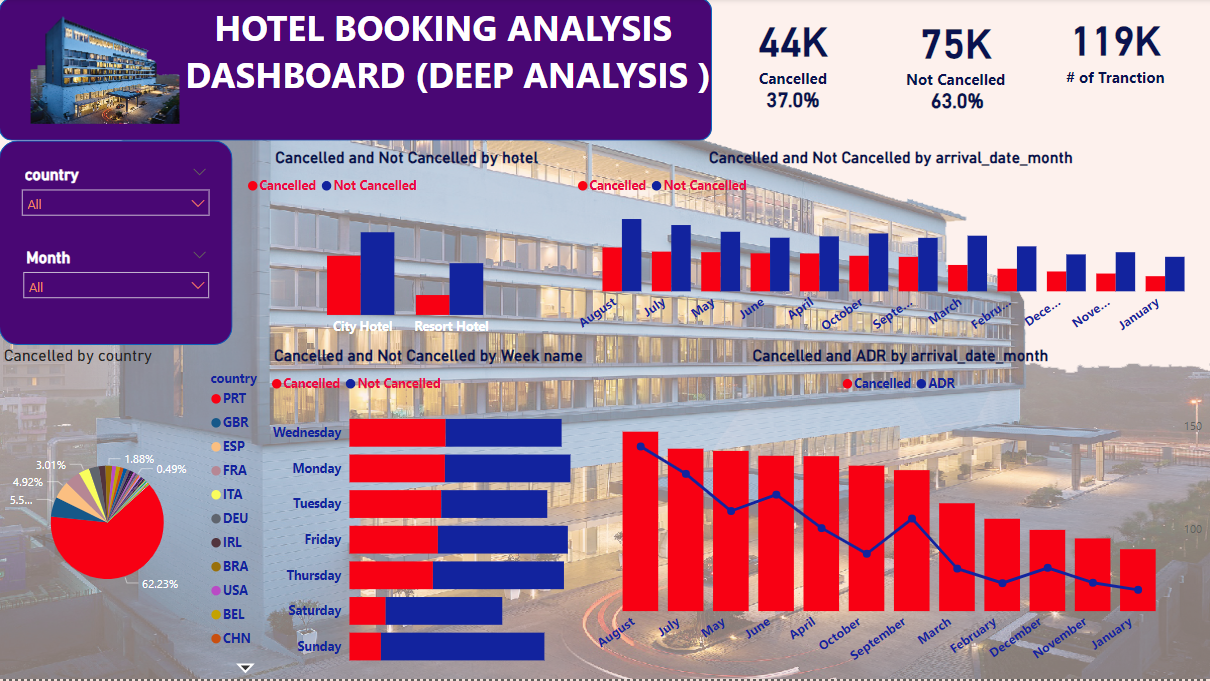

The dashboard page shown, as its layout file describes it:
{"tool":"powerbi","page":{"name":"Page 1","canvas":[1280,720],"ordinal":0},"visuals":[{"type":"shape","box":[0,0,657.5,135.1],"z":0},{"type":"textbox","box":[126.7,0,530.8,170.1],"z":1000},{"type":"image","box":[0,0,145.5,152.3],"z":2000},{"type":"shape","box":[0,135.1,146,480.2],"z":3000},{"type":"advancedSlicerVisual","title":"Country","fields":{"Values":["hotel_booking.country"]},"box":[0,401.7,141.2,202.7],"z":4000},{"type":"advancedSlicerVisual","title":"Date","fields":{"Values":["hotel_booking.arrival_date_day_of_month"]},"box":[3.6,139.9,135.1,202.7],"z":5000},{"type":"card","fields":{"Values":["All Measures.Cancelled"]},"box":[657.5,0,203.9,100.1],"z":6000},{"type":"card","fields":{"Values":["All Measures.Not Cancelled"]},"box":[861.4,0,194.2,100.1],"z":7000},{"type":"card","fields":{"Values":["All Measures.# of Transactions"]},"box":[1077.4,3.6,183.4,96.5],"z":8000},{"type":"card","fields":{"Values":["All Measures.% Cancellation"]},"box":[657.5,85.7,212.3,35],"z":9000},{"type":"card","fields":{"Values":["All Measures.% Not Cancellation"]},"box":[869.8,85.7,185.8,35],"z":10000},{"type":"clusteredColumnChart","fields":{"Category":["hotel_booking.hotel"],"Y":["All Measures.Not Cancelled","All Measures.Cancelled"]},"box":[791,135.5,472.3,271.1],"z":11000},{"type":"clusteredColumnChart","fields":{"Y":["All Measures.Not Cancelled","All Measures.Cancelled"],"Category":["hotel_booking.arrival_date_month"]},"box":[156.7,411.9,436.3,296.5],"z":12000},{"type":"barChart","fields":{"Y":["All Measures.Not Cancelled","All Measures.Cancelled"],"Category":["hotel_booking.WeekDay_Name"]},"box":[146,135.1,591.2,276.3],"z":13000},{"type":"pieChart","fields":{"Category":["hotel_booking.country"],"Y":["All Measures.Cancelled"]},"box":[989.8,411.6,290.4,306.1],"z":14000},{"type":"lineStackedColumnComboChart","fields":{"Category":["hotel_booking.arrival_date_month"],"Y":["All Measures.Cancelled"],"Y2":["All Measures.ADR"]},"box":[592.6,411.6,397.2,306.1],"z":15000}]}

Visuals, with their boxes in screenshot pixels (x1, y1, x2, y2), scaled from the page's 1280x720 canvas onto the 1210x681 screenshot:
shape: [0, 0, 622, 128]
textbox: [120, 0, 622, 161]
image: [0, 0, 138, 144]
shape: [0, 128, 138, 582]
"Country" advancedSlicerVisual: [0, 380, 133, 572]
"Date" advancedSlicerVisual: [3, 132, 131, 324]
card - All Measures.Cancelled: [622, 0, 814, 95]
card - All Measures.Not Cancelled: [814, 0, 998, 95]
card - All Measures.# of Transactions: [1018, 3, 1192, 95]
card - All Measures.% Cancellation: [622, 81, 822, 114]
card - All Measures.% Not Cancellation: [822, 81, 998, 114]
clusteredColumnChart - hotel_booking.hotel x All Measures.Not Cancelled: [748, 128, 1194, 385]
clusteredColumnChart - All Measures.Not Cancelled x All Measures.Cancelled: [148, 390, 561, 670]
barChart - All Measures.Not Cancelled x All Measures.Cancelled: [138, 128, 697, 389]
pieChart - hotel_booking.country x All Measures.Cancelled: [936, 389, 1209, 679]
lineStackedColumnComboChart - hotel_booking.arrival_date_month x All Measures.Cancelled: [560, 389, 936, 679]
